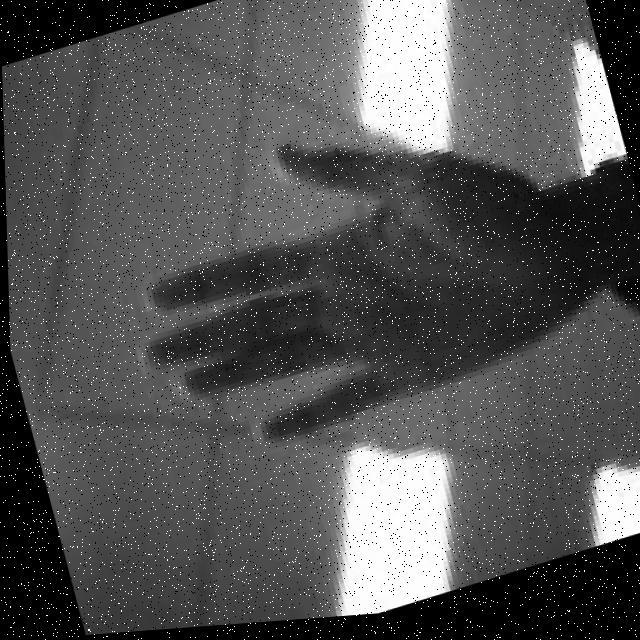no-gloves: (90, 69, 604, 486)
